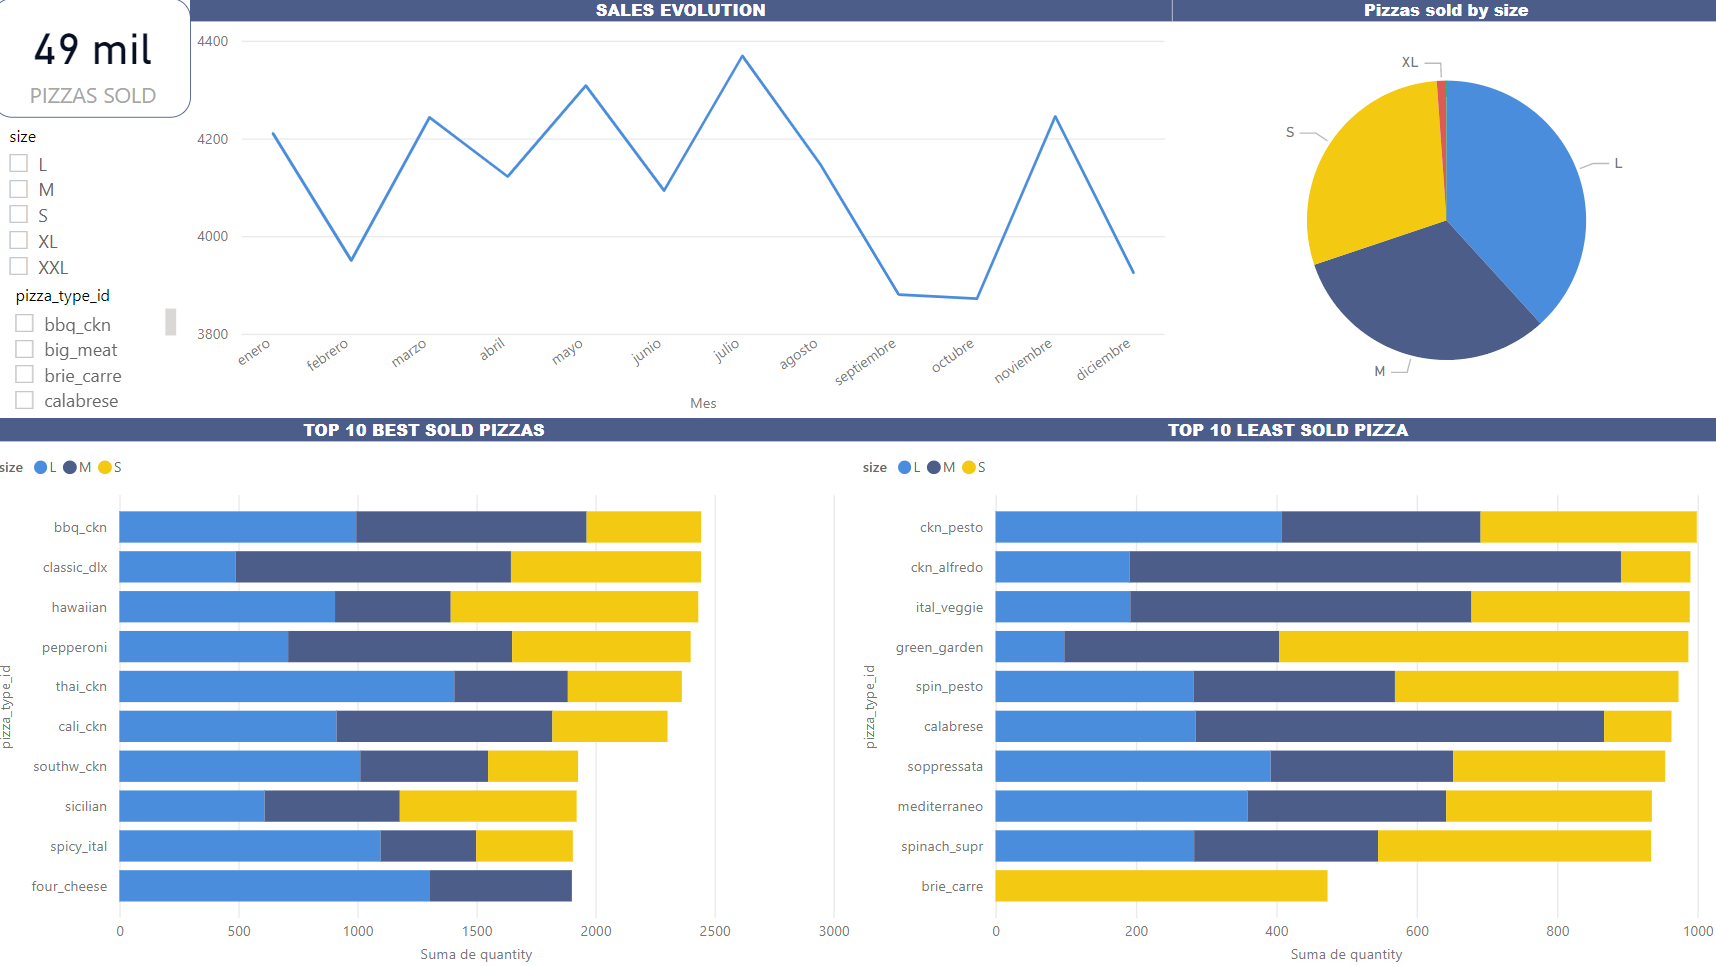

The dashboard page shown, as its layout file describes it:
{"tool":"powerbi","page":{"name":"Página 2","canvas":[1280,720],"ordinal":0},"visuals":[{"type":"barChart","title":"TOP 10 BEST SOLD PIZZAS","fields":{"Category":["pizzas.pizza_type_id"],"Series":["pizzas.size"],"Y":["Sum(Datos limpios.quantity)"]},"box":[0,311.4,640,408.6],"z":0},{"type":"barChart","title":"TOP 10 LEAST SOLD PIZZA","fields":{"Category":["pizzas.pizza_type_id"],"Series":["pizzas.size"],"Y":["Sum(Datos limpios.quantity)"]},"box":[640,311.4,640,408.6],"z":1000},{"type":"pieChart","title":"Pizzas sold by size","fields":{"Y":["Sum(Datos limpios.quantity)"],"Category":["Datos limpios.pizzas.size"]},"box":[874.3,0,405.7,311.4],"z":2000},{"type":"card","title":"TOTAL PIZZAS SOLD","fields":{"Values":["Sum(Datos limpios.quantity)"]},"box":[0,0,147.1,88.6],"z":3000},{"type":"lineChart","title":"SALES EVOLUTION","fields":{"Category":["orders.date.Variación.Jerarquía de fechas.Mes"],"Y":["Sum(Datos limpios.quantity)"]},"box":[147.1,0,727.1,311.4],"z":4000},{"type":"slicer","fields":{"Values":["pizzas.size"]},"box":[0,88.6,147.1,130],"z":6001},{"type":"slicer","fields":{"Values":["pizzas (2).pizza_type_id"]},"box":[4.3,207.1,137.1,104.3],"z":6002}]}

Visuals, with their boxes in screenshot pixels (x1, y1, x2, y2), scaled from the page's 1280x720 canvas onto the 1716x966 screenshot:
"TOP 10 BEST SOLD PIZZAS" barChart: box(0, 418, 858, 965)
"TOP 10 LEAST SOLD PIZZA" barChart: box(858, 418, 1715, 965)
"Pizzas sold by size" pieChart: box(1172, 0, 1715, 418)
"TOTAL PIZZAS SOLD" card: box(0, 0, 197, 119)
"SALES EVOLUTION" lineChart: box(197, 0, 1172, 418)
slicer - pizzas.size: box(0, 119, 197, 293)
slicer - pizzas (2).pizza_type_id: box(6, 278, 190, 418)
